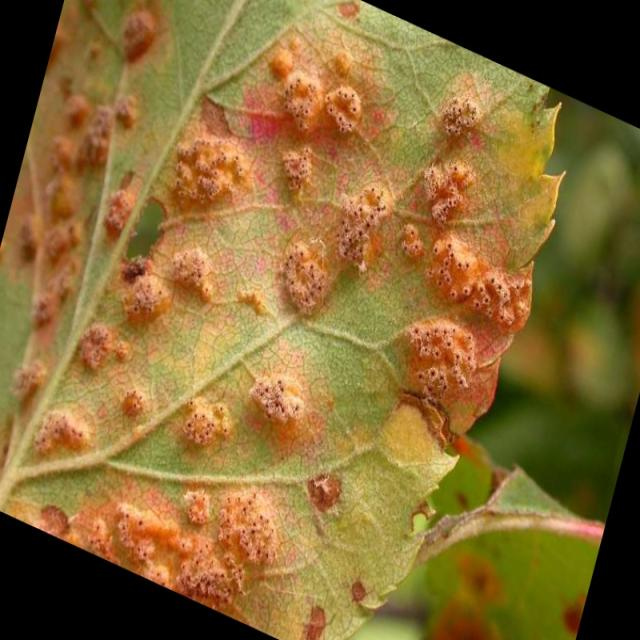Gymnosporangium_Rusts: (0, 0, 569, 638)
